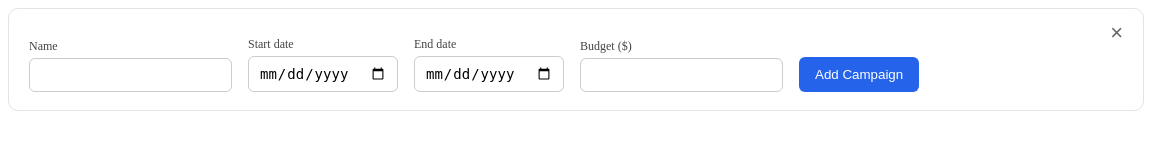
Test: AddCampaign Component › shows error when end date is before start date
Type "Test Campaign" into the field labelled "Name" at (130, 75), box [29,58,232,92]
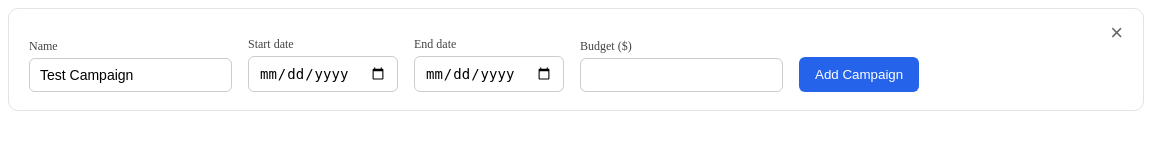
Type "2024-01-10" into the date field labelled "Start date" at (323, 74), box [248,56,398,92]
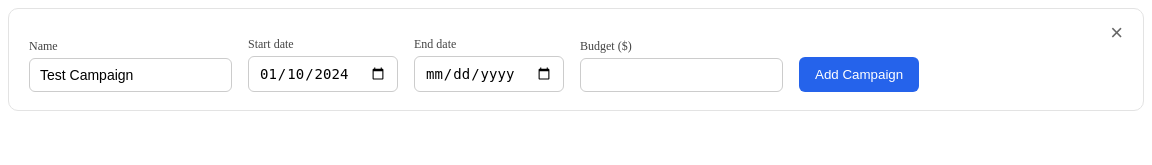
Type "2024-01-05" into the date field labelled "End date" at (489, 74), box [414,56,564,92]
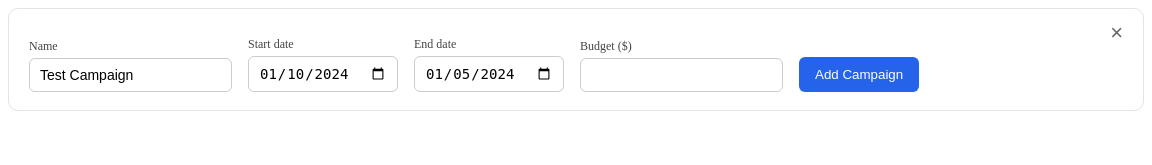
Type "5000" into the number field labelled "Budget ($)" at (682, 75), box [580,58,783,92]
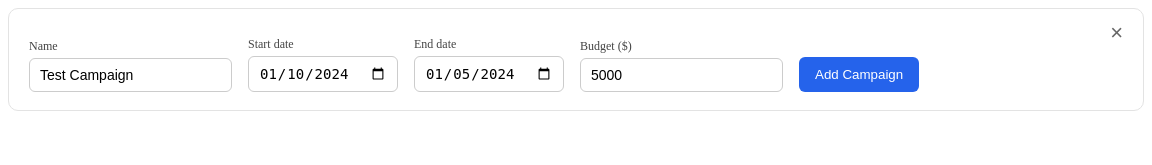
Click the button "Add Campaign" at (859, 74), box [799,57,919,92]
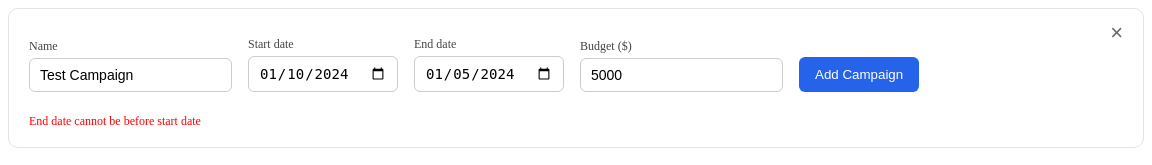
Result: the text "End date cannot be before start date" is shown at [29,114,201,128]
